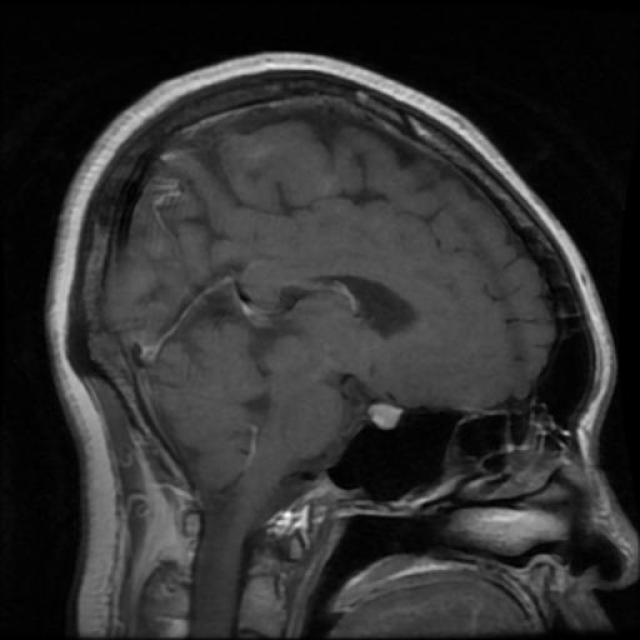pituitary: (330, 388, 420, 446)
